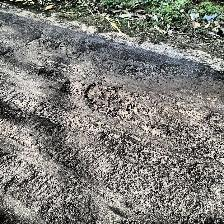pothole: (84, 81, 146, 121)
